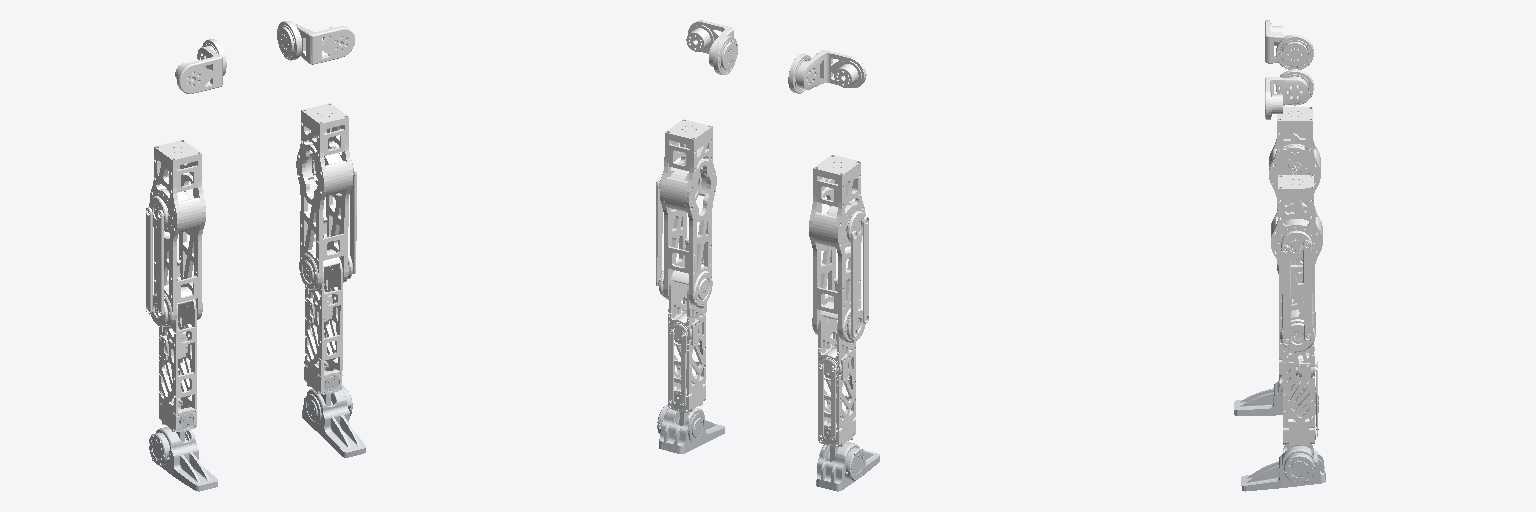
URDF robot description (leg_robot_4):
<?xml version="1.0" encoding="utf-8"?>
<!-- This URDF was automatically created by SolidWorks to URDF Exporter! Originally created by [author] ([email redacted]) 
     Commit Version: 1.6.0-4-g7f85cfe  Build Version: 1.6.7995.38578
     For more information, please see http://wiki.ros.org/sw_urdf_exporter -->
<robot
  name="leg_robot_4">
  <link
    name="base_link">
    <inertial>
      <origin
        xyz="0.0333301384983334 0.67103260442612409 0.697885837083768"
        rpy="0 0 0" />
      <mass
        value="1.49690133184426" />
      <inertia
        ixx="0.00329189748170828"
        ixy="-6.78095222817375E-08"
        ixz="-4.85227555996369E-07"
        iyy="0.00294239027368508"
        iyz="-5.65136146714161E-07"
        izz="0.00317388886396801" />
    </inertial>
    <visual>
      <origin
        xyz="0 0 0"
        rpy="0 0 0" />
      <geometry>
        <mesh
          filename="../meshes/base_link.STL" />
      </geometry>
      <material
        name="">
        <color
          rgba="1 1 1 1" />
      </material>
    </visual>
    <collision>
      <origin
        xyz="0 0 0"
        rpy="0 0 0" />
      <geometry>
        <mesh
          filename="../meshes/base_link.STL" />
      </geometry>
    </collision>
  </link>
  <link
    name="left_Link1">
    <inertial>
      <origin
        xyz="0.088851659780158 -0.000331637085429826 0.02750913532889"
        rpy="0 0 0" />
      <mass
        value="3.469473166492788" />
      <inertia
        ixx="0.000307595565290695"
        ixy="2.19819619350591E-06"
        ixz="-0.000182129639324375"
        iyy="0.000580819177282074"
        iyz="1.53210567122124E-06"
        izz="0.00045369969875024" />
    </inertial>
    <visual>
      <origin
        xyz="0 0 0"
        rpy="0 0 0" />
      <geometry>
        <mesh
          filename="../meshes/left_Link1.STL" />
      </geometry>
      <material
        name="">
        <color
          rgba="1 1 1 1" />
      </material>
    </visual>
    <collision>
      <origin
        xyz="0 0 0"
        rpy="0 0 0" />
      <geometry>
        <mesh
          filename="../meshes/left_Link1.STL" />
      </geometry>
    </collision>
  </link>
  <joint
    name="left_joint1"
    type="revolute">
    <origin
      xyz="0.074405 -0.0080455 0.67982"
      rpy="1.5708 0 0" />
    <parent
      link="base_link" />
    <child
      link="left_Link1" />
    <axis
      xyz="-1 0 0" />
    <limit
      lower="-0.75"
      upper="1.57"
      effort="63"
      velocity="20" />
  </joint>
  <link
    name="left_Link2">
    <inertial>
      <origin
        xyz="9.35953192587879E-07 -0.0762574506509951 0.017596614239338"
        rpy="0 0 0" />
      <mass
        value="1.08645850508858" />
      <inertia
        ixx="0.0014785711596645"
        ixy="-8.509908467779E-07"
        ixz="-1.28981575241324E-06"
        iyy="0.00218236702718317"
        iyz="-2.62516236789212E-05"
        izz="0.00178961925253272" />
    </inertial>
    <visual>
      <origin
        xyz="0 0 0"
        rpy="0 0 0" />
      <geometry>
        <mesh
          filename="../meshes/left_Link2.STL" />
      </geometry>
      <material
        name="">
        <color
          rgba="1 1 1 1" />
      </material>
    </visual>
    <collision>
      <origin
        xyz="0 0 0"
        rpy="0 0 0" />
      <geometry>
        <mesh
          filename="../meshes/left_Link2.STL" />
      </geometry>
    </collision>
  </link>
  <joint
    name="left_joint2"
    type="revolute">
    <origin
      xyz="0.14063 0.00016068 -0.013324"
      rpy="0 0 0" />
    <parent
      link="left_Link1" />
    <child
      link="left_Link2" />
    <axis
      xyz="0 -0.012059 0.99993" />
    <limit
      lower="-0.08"
      upper="1.45"
      effort="63"
      velocity="20" />
  </joint>
  <link
    name="left_Link3">
    <inertial>
      <origin
        xyz="0.00822876234553166 -0.304827746962222 -0.00369322736975432"
        rpy="0 0 0" />
      <mass
        value="1.60208478305264" />
      <inertia
        ixx="0.0138948980281397"
        ixy="-8.29118868668374E-06"
        ixz="-1.76694508858768E-07"
        iyy="0.00115580752075013"
        iyz="-0.00017967710035112"
        izz="0.012907492658796" />
    </inertial>
    <visual>
      <origin
        xyz="0 0 0"
        rpy="0 0 0" />
      <geometry>
        <mesh
          filename="../meshes/left_Link3.STL" />
      </geometry>
      <material
        name="">
        <color
          rgba="1 1 1 1" />
      </material>
    </visual>
    <collision>
      <origin
        xyz="0 0 0"
        rpy="0 0 0" />
      <geometry>
        <mesh
          filename="../meshes/left_Link3.STL" />
      </geometry>
    </collision>
  </link>
  <joint
    name="left_joint3"
    type="revolute">
    <origin
      xyz="0 -0.076656 0.012502"
      rpy="0 0 0" />
    <parent
      link="left_Link2" />
    <child
      link="left_Link3" />
    <axis
      xyz="0 0.99993 0.012059" />
    <limit
      lower="-1.05"
      upper="1.57"
      effort="35"
      velocity="20" />
  </joint>
  <link
    name="left_Link4">
    <inertial>
      <origin
        xyz="-0.0529070029782021 -0.104634142840928 -0.00757778919629163"
        rpy="0 0 0" />
      <mass
        value="1.06517552807913" />
      <inertia
        ixx="0.00475103587154659"
        ixy="1.03052666819589E-06"
        ixz="5.00921503145521E-08"
        iyy="0.000363762862712759"
        iyz="-5.70889404450472E-05"
        izz="0.00457610954754629" />
    </inertial>
    <visual>
      <origin
        xyz="0 0 0"
        rpy="0 0 0" />
      <geometry>
        <mesh
          filename="../meshes/left_Link4.STL" />
      </geometry>
      <material
        name="">
        <color
          rgba="1 1 1 1" />
      </material>
    </visual>
    <collision>
      <origin
        xyz="0 0 0"
        rpy="0 0 0" />
      <geometry>
        <mesh
          filename="../meshes/left_Link4.STL" />
      </geometry>
    </collision>
  </link>
  <joint
    name="left_joint4"
    type="revolute">
    <origin
      xyz="0.049 -0.48196 -0.0058122"
      rpy="0 0 0" />
    <parent
      link="left_Link3" />
    <child
      link="left_Link4" />
    <axis
      xyz="-1 0 0" />
    <limit
      lower="-2"
      upper="0"
      effort="30.6"
      velocity="15" />
  </joint>
  <link
    name="left_Link5">
    <inertial>
      <origin
        xyz="0.000251667253197002 -0.0292044657081603 -0.0376606206082752"
        rpy="0 0 0" />
      <mass
        value="0.276071717463909" />
      <inertia
        ixx="0.000285928353690902"
        ixy="1.94330197753284E-06"
        ixz="2.34221157246751E-08"
        iyy="5.70229975490586E-05"
        iyz="-2.3956388107617E-06"
        izz="0.000255646675993595" />
    </inertial>
    <visual>
      <origin
        xyz="0 0 0"
        rpy="0 0 0" />
      <geometry>
        <mesh
          filename="../meshes/left_Link5.STL" />
      </geometry>
      <material
        name="">
        <color
          rgba="0.898039215686275 0.917647058823529 0.929411764705882 1" />
      </material>
    </visual>
    <collision>
      <origin
        xyz="0 0 0"
        rpy="0 0 0" />
      <geometry>
        <mesh
          filename="../meshes/left_Link5.STL" />
      </geometry>
    </collision>
  </link>
  <joint
    name="left_joint5"
    type="revolute">
    <origin
      xyz="-0.049 -0.25742 0.032898"
      rpy="0 0 0" />
    <parent
      link="left_Link4" />
    <child
      link="left_Link5" />
    <axis
      xyz="0 -0.012059 0.99993" />
    <limit
      lower="-0.5"
      upper="0.5"
      effort="4"
      velocity="10" />
  </joint>
  <link
    name="left_Link6">
    <inertial>
      <origin
        xyz="-0.0437056095034989 -0.0126444231109442 0.0109673593360841"
        rpy="0 0 0" />
      <mass
        value="1.25173482349334" />
      <inertia
        ixx="0.00221587722669508"
        ixy="-4.09271287243686E-05"
        ixz="3.27923575098428E-05"
        iyy="0.00192790168163853"
        iyz="0.000322150902158661"
        izz="0.000761945243365007" />
    </inertial>
    <visual>
      <origin
        xyz="0 0 0"
        rpy="0 0 0" />
      <geometry>
        <mesh
          filename="../meshes/left_Link6.STL" />
      </geometry>
      <material
        name="">
        <color
          rgba="0.898039215686275 0.917647058823529 0.929411764705882 1" />
      </material>
    </visual>
    <collision>
      <origin
        xyz="0 0 0"
        rpy="0 0 0" />
      <geometry>
        <mesh
          filename="../meshes/left_Link6.STL" />
      </geometry>
    </collision>
  </link>
  <joint
    name="left_joint6"
    type="revolute">
    <origin
      xyz="0.052392 -0.069119 -0.036836"
      rpy="0 0 0" />
    <parent
      link="left_Link5" />
    <child
      link="left_Link6" />
    <axis
      xyz="0.99996 0.0084839 0.0001783" />
    <limit
      lower="-0.6"
      upper="1.3"
      effort="4"
      velocity="10" />
  </joint>
  <link
    name="right_Link1">
    <inertial>
      <origin
        xyz="-0.0888516568342693 5.69432960473293E-06 0.027511155133394"
        rpy="0 0 0" />
      <mass
        value="3.469474958062602" />
      <inertia
        ixx="0.000307596278049938"
        ixy="3.84275155890697E-08"
        ixz="0.000182142100703291"
        iyy="0.000580835822721732"
        iyz="-2.59088708029145E-08"
        izz="0.000453681028456837" />
    </inertial>
    <visual>
      <origin
        xyz="0 0 0"
        rpy="0 0 0" />
      <geometry>
        <mesh
          filename="../meshes/right_Link1.STL" />
      </geometry>
      <material
        name="">
        <color
          rgba="1 1 1 1" />
      </material>
    </visual>
    <collision>
      <origin
        xyz="0 0 0"
        rpy="0 0 0" />
      <geometry>
        <mesh
          filename="../meshes/right_Link1.STL" />
      </geometry>
    </collision>
  </link>
  <joint
    name="right_joint1"
    type="revolute">
    <origin
      xyz="-0.0077449 -0.0080455 0.67982"
      rpy="1.5708 0 0" />
    <parent
      link="base_link" />
    <child
      link="right_Link1" />
    <axis
      xyz="1 0 0" />
    <limit
      lower="-1.57"
      upper="0.75"
      effort="63"
      velocity="20" />
  </joint>
  <link
    name="right_Link2">
    <inertial>
      <origin
        xyz="-4.38095032667674E-07 -0.076036764225861 0.018530029662752"
        rpy="0 0 0" />
      <mass
        value="1.0864584420749" />
      <inertia
        ixx="0.00147851074616316"
        ixy="-1.10347304742056E-06"
        ixz="-1.10182705446302E-06"
        iyy="0.00218183328697101"
        iyz="-3.10669873097236E-05"
        izz="0.00179021288933082" />
    </inertial>
    <visual>
      <origin
        xyz="0 0 0"
        rpy="0 0 0" />
      <geometry>
        <mesh
          filename="../meshes/right_Link2.STL" />
      </geometry>
      <material
        name="">
        <color
          rgba="1 1 1 1" />
      </material>
    </visual>
    <collision>
      <origin
        xyz="0 0 0"
        rpy="0 0 0" />
      <geometry>
        <mesh
          filename="../meshes/right_Link2.STL" />
      </geometry>
    </collision>
  </link>
  <joint
    name="right_joint2"
    type="revolute">
    <origin
      xyz="-0.14063 0 -0.013325"
      rpy="0 0 0" />
    <parent
      link="right_Link1" />
    <child
      link="right_Link2" />
    <axis
      xyz="0 0.00020514 1" />
    <limit
      lower="-1.45"
      upper="0.08"
      effort="6"
      velocity="20" />
  </joint>
  <link
    name="right_Link3">
    <inertial>
      <origin
        xyz="-0.00822876234704453 -0.305002360917959 2.95066752287413E-05"
        rpy="0 0 0" />
      <mass
        value="1.60208478387031" />
      <inertia
        ixx="0.0138950635853602"
        ixy="8.23856486133477E-06"
        ixz="-5.78962498053342E-08"
        iyy="0.00115237426677091"
        iyz="-3.68208476762078E-05"
        izz="0.0129110914701674" />
    </inertial>
    <visual>
      <origin
        xyz="0 0 0"
        rpy="0 0 0" />
      <geometry>
        <mesh
          filename="../meshes/right_Link3.STL" />
      </geometry>
      <material
        name="">
        <color
          rgba="1 1 1 1" />
      </material>
    </visual>
    <collision>
      <origin
        xyz="0 0 0"
        rpy="0 0 0" />
      <geometry>
        <mesh
          filename="../meshes/right_Link3.STL" />
      </geometry>
    </collision>
  </link>
  <joint
    name="right_joint3"
    type="revolute">
    <origin
      xyz="0 -0.076497 0.013441"
      rpy="0 0 0" />
    <parent
      link="right_Link2" />
    <child
      link="right_Link3" />
    <axis
      xyz="0 1 -0.00020514" />
    <limit
      lower="-1.57"
      upper="1.05"
      effort="35"
      velocity="20" />
  </joint>
  <link
    name="right_Link4">
    <inertial>
      <origin
        xyz="0.0528851622667241 -0.104719205003742 -0.00629402011289562"
        rpy="0 0 0" />
      <mass
        value="1.06517552794204" />
      <inertia
        ixx="0.00475103587022021"
        ixy="1.03106390206003E-06"
        ixz="3.74504200184114E-08"
        iyy="0.000362996234660156"
        iyz="-5.41671760057621E-06"
        izz="0.00457687617432029" />
    </inertial>
    <visual>
      <origin
        xyz="0 0 0"
        rpy="0 0 0" />
      <geometry>
        <mesh
          filename="../meshes/right_Link4.STL" />
      </geometry>
      <material
        name="">
        <color
          rgba="1 1 1 1" />
      </material>
    </visual>
    <collision>
      <origin
        xyz="0 0 0"
        rpy="0 0 0" />
      <geometry>
        <mesh
          filename="../meshes/right_Link4.STL" />
      </geometry>
    </collision>
  </link>
  <joint
    name="right_joint4"
    type="revolute">
    <origin
      xyz="-0.049 -0.482 9.888E-05"
      rpy="0 0 0" />
    <parent
      link="right_Link3" />
    <child
      link="right_Link4" />
    <axis
      xyz="1 0 0" />
    <limit
      lower="0"
      upper="2"
      effort="30.6"
      velocity="15" />
  </joint>
  <link
    name="right_Link5">
    <inertial>
      <origin
        xyz="0.000158359784373396 -0.0296647721168645 -0.0372996338185962"
        rpy="0 0 0" />
      <mass
        value="0.276071716143871" />
      <inertia
        ixx="0.000285938316707634"
        ixy="1.2229242286118E-06"
        ixz="-2.64052738394452E-10"
        iyy="5.69841539329949E-05"
        iyz="4.07608100088745E-08"
        izz="0.000255675558134185" />
    </inertial>
    <visual>
      <origin
        xyz="0 0 0"
        rpy="0 0 0" />
      <geometry>
        <mesh
          filename="../meshes/right_Link5.STL" />
      </geometry>
      <material
        name="">
        <color
          rgba="0.898039215686275 0.917647058823529 0.929411764705882 1" />
      </material>
    </visual>
    <collision>
      <origin
        xyz="0 0 0"
        rpy="0 0 0" />
      <geometry>
        <mesh
          filename="../meshes/right_Link5.STL" />
      </geometry>
    </collision>
  </link>
  <joint
    name="right_joint5"
    type="revolute">
    <origin
      xyz="0.049 -0.25699 0.036053"
      rpy="0 0 0" />
    <parent
      link="right_Link4" />
    <child
      link="right_Link5" />
    <axis
      xyz="0 0.00020514 1" />
    <limit
      lower="-0.5"
      upper="0.5"
      effort="4"
      velocity="10" />
  </joint>
  <link
    name="right_Link6">
    <inertial>
      <origin
        xyz="0.0440681338776377 -0.0107292571323514 0.0123642466189018"
        rpy="0 0 0" />
      <mass
        value="1.25173227418432" />
      <inertia
        ixx="0.00221473522382905"
        ixy="4.03000665038196E-05"
        ixz="-4.05923979496004E-05"
        iyy="0.00198616329978931"
        iyz="0.000183314263585005"
        izz="0.000704804863625323" />
    </inertial>
    <visual>
      <origin
        xyz="0 0 0"
        rpy="0 0 0" />
      <geometry>
        <mesh
          filename="../meshes/right_Link6.STL" />
      </geometry>
      <material
        name="">
        <color
          rgba="0.898039215686275 0.917647058823529 0.929411764705882 1" />
      </material>
    </visual>
    <collision>
      <origin
        xyz="0 0 0"
        rpy="0 0 0" />
      <geometry>
        <mesh
          filename="../meshes/right_Link6.STL" />
      </geometry>
    </collision>
  </link>
  <joint
    name="right_joint6"
    type="revolute">
    <origin
      xyz="-0.051625 -0.070284 -0.035986"
      rpy="0 0 0" />
    <parent
      link="right_Link5" />
    <child
      link="right_Link6" />
    <axis
      xyz="-0.99999 -0.0053396 0" />
    <limit
      lower="-1.3"
      upper="0.6"
      effort="4"
      velocity="10" />
  </joint>
</robot>

--- Facts derived from the render (not from the file) ---
Views: 3 orthographic renders of the robot side by side, from view 1: azimuth 30°, elevation 25°; view 2: azimuth 150°, elevation 25°; view 3: azimuth 270°, elevation 25°.
Robot: leg_robot_4 — 13 links, 12 joints (12 revolute); root link base_link; default pose: all joints at 0.
Links seen in each view (by area): view 1: right_Link3, left_Link3, left_Link4, right_Link4, left_Link6, right_Link6, left_Link1, right_Link1; view 2: right_Link3, left_Link3, left_Link4, right_Link4, right_Link1, left_Link6, right_Link6, left_Link1; view 3: left_Link3, left_Link4, right_Link3, left_Link6, left_Link1, right_Link1, right_Link6.
Link boxes in pixels (bbox=[...]): right_Link3: bbox=[146, 140, 205, 326]; left_Link3: bbox=[296, 103, 356, 289]; left_Link4: bbox=[303, 249, 342, 394]; right_Link4: bbox=[159, 287, 196, 431]; left_Link6: bbox=[302, 386, 365, 457]; right_Link6: bbox=[149, 427, 217, 491]; left_Link1: bbox=[277, 21, 354, 64]; right_Link1: bbox=[175, 39, 226, 93]; right_Link3: bbox=[809, 155, 868, 341]; left_Link3: bbox=[656, 119, 716, 307]; left_Link4: bbox=[668, 267, 708, 412]; right_Link4: bbox=[818, 301, 855, 446]; right_Link1: bbox=[788, 50, 866, 93]; left_Link6: bbox=[657, 404, 724, 453]; right_Link6: bbox=[816, 442, 879, 491]; left_Link1: bbox=[686, 20, 737, 74]; left_Link3: bbox=[1271, 175, 1322, 351]; left_Link4: bbox=[1282, 310, 1317, 446]; right_Link3: bbox=[1269, 107, 1320, 281]; left_Link6: bbox=[1241, 444, 1325, 491]; left_Link1: bbox=[1265, 69, 1313, 119]; right_Link1: bbox=[1265, 20, 1313, 69]; right_Link6: bbox=[1234, 376, 1318, 415].
Size in the robot's own frame: 0.483 by 0.2059 by 0.9924 metres.
10 mesh visuals loaded from 13 distinct referenced files (10 binary STL); not drawn: 3 (reference not matched to a file when rendering).